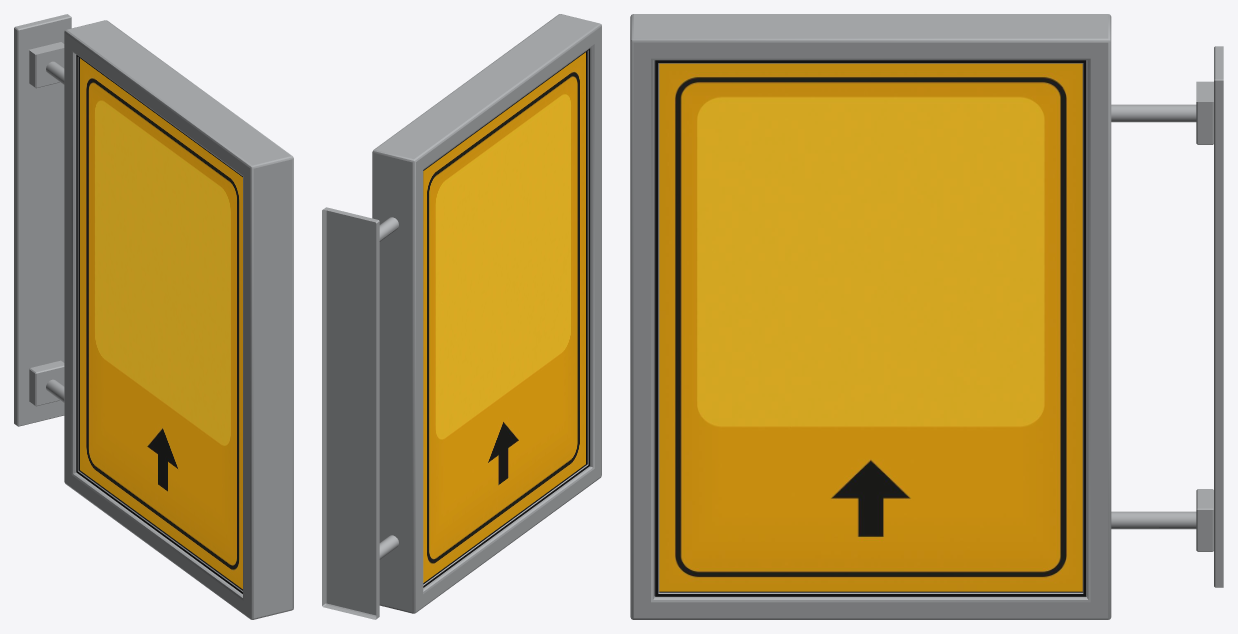
File: gteki_sign_blade_yellow_up.glb
3 renders of one model, left to right at view 1: azimuth 30°, elevation 25°; view 2: azimuth 150°, elevation 25°; view 3: azimuth 270°, elevation 25°, orthographic. The views are drawn at different scales.
Visible parts, largest first — view 1: VIS_faces, VIS_frame, VIS_mount; view 2: VIS_faces, VIS_frame, VIS_mount; view 3: VIS_faces, VIS_frame, VIS_mount.
Boxes of the visible parts, bbox=[...] form: VIS_faces: bbox=[80, 58, 242, 588]; VIS_frame: bbox=[64, 20, 293, 619]; VIS_mount: bbox=[14, 14, 71, 426]; VIS_faces: bbox=[423, 52, 585, 582]; VIS_frame: bbox=[372, 14, 601, 613]; VIS_mount: bbox=[322, 207, 398, 619]; VIS_faces: bbox=[659, 63, 1082, 591]; VIS_frame: bbox=[630, 14, 1111, 619]; VIS_mount: bbox=[1111, 46, 1223, 587].
Size of what is drawn, in the model's own units: 0.1 by 0.8 by 0.74.
3 materials, 1 textured.
